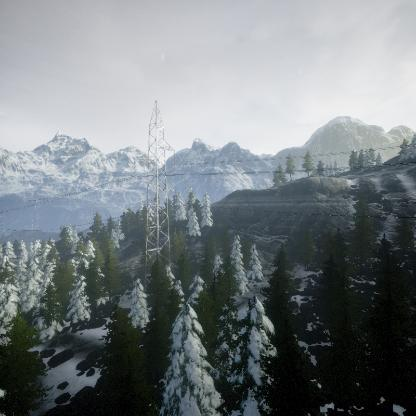tower: (131, 98, 180, 273)
